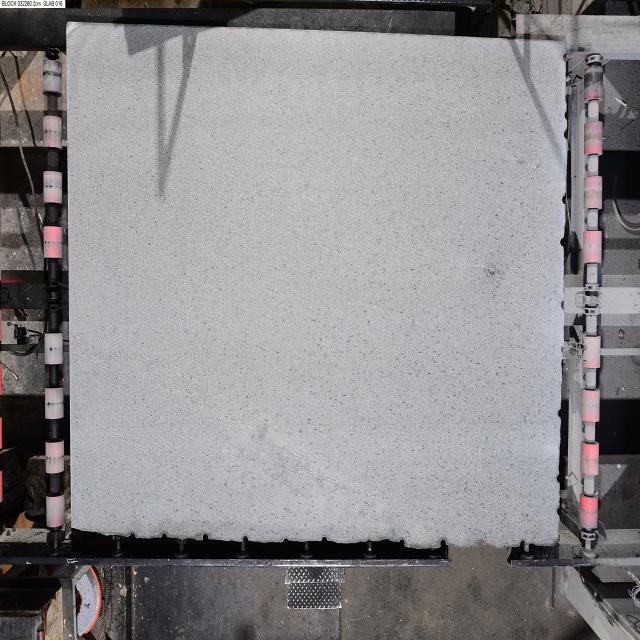chapa: (68, 22, 566, 548)
veio: (201, 531, 210, 544), (160, 533, 171, 543), (321, 534, 330, 546), (440, 538, 449, 550), (562, 191, 568, 208), (127, 532, 137, 541)
